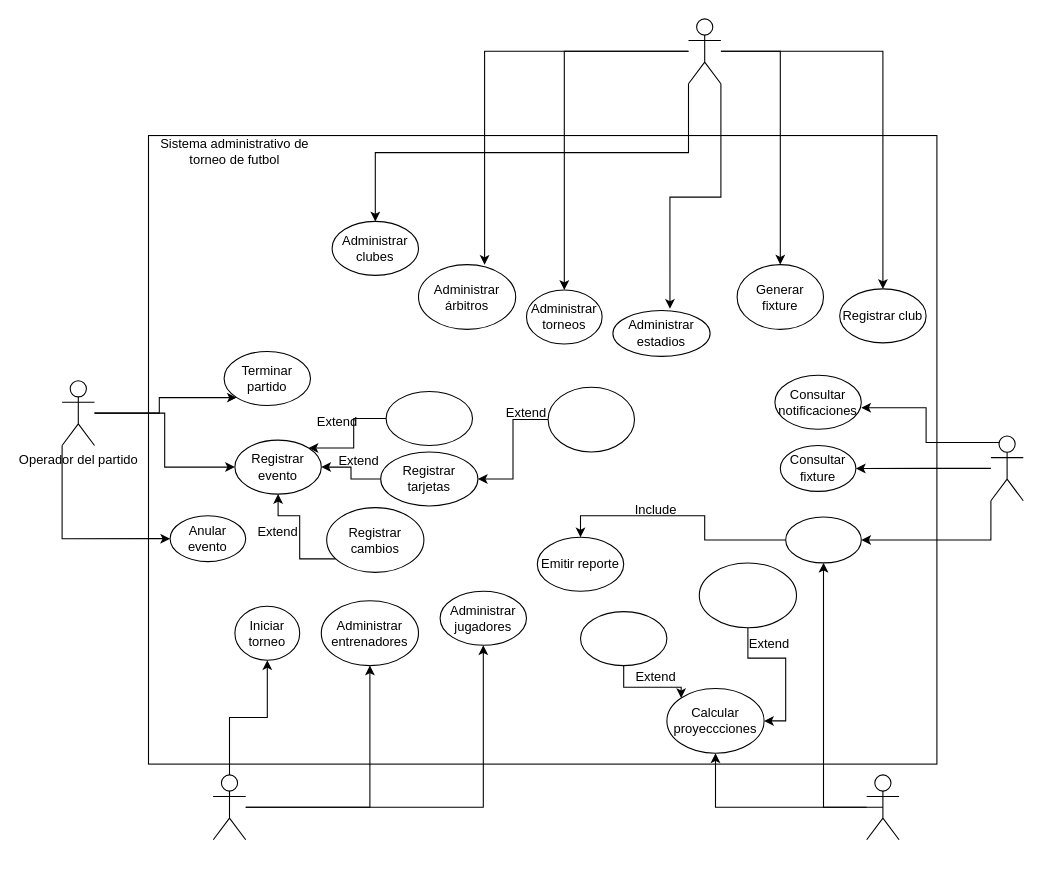
The diagram is 1054 pixels wide and 881 high, and some of its shapes have lost their labels. Each missing label, with the box of its shape:
Analista estadístico: (866, 774, 899, 840)
Calcular por historial: (579, 611, 667, 666)
Calcular por rendimiento: (698, 562, 796, 628)
Consultar tabla: (785, 516, 861, 563)
Organizador: (687, 18, 721, 84)
Organizador 2: (212, 774, 246, 840)
Registrar goles: (385, 390, 473, 446)
Sancionar jugador: (547, 386, 634, 452)
Suscriptor: (990, 435, 1023, 501)
